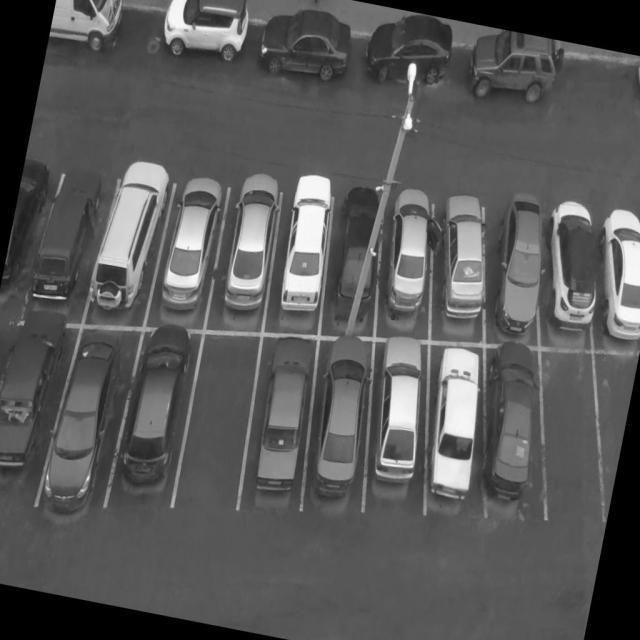car: (34, 312, 142, 536), (105, 308, 211, 532), (288, 324, 388, 540), (352, 324, 446, 532), (232, 323, 326, 526), (78, 150, 185, 326), (0, 300, 82, 523), (408, 331, 493, 541), (464, 340, 556, 524), (26, 158, 122, 324), (524, 186, 618, 355), (202, 162, 293, 336), (144, 168, 235, 322), (420, 181, 506, 341), (264, 162, 348, 324), (477, 190, 562, 350), (368, 178, 454, 336), (318, 175, 399, 334), (580, 192, 640, 352), (0, 165, 57, 324), (0, 310, 13, 508), (632, 210, 640, 327)
free: (172, 322, 270, 522), (520, 342, 614, 530), (564, 328, 640, 540)
